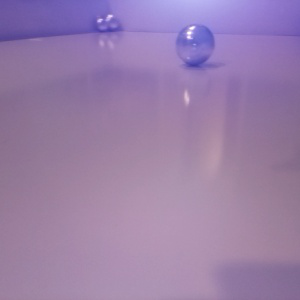alive_ball: (175, 24, 214, 66), (104, 14, 119, 30), (95, 18, 107, 32)
